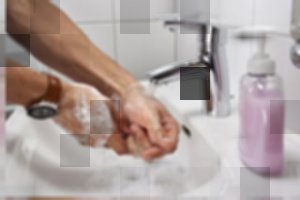washing hand: (44, 17, 225, 179)
